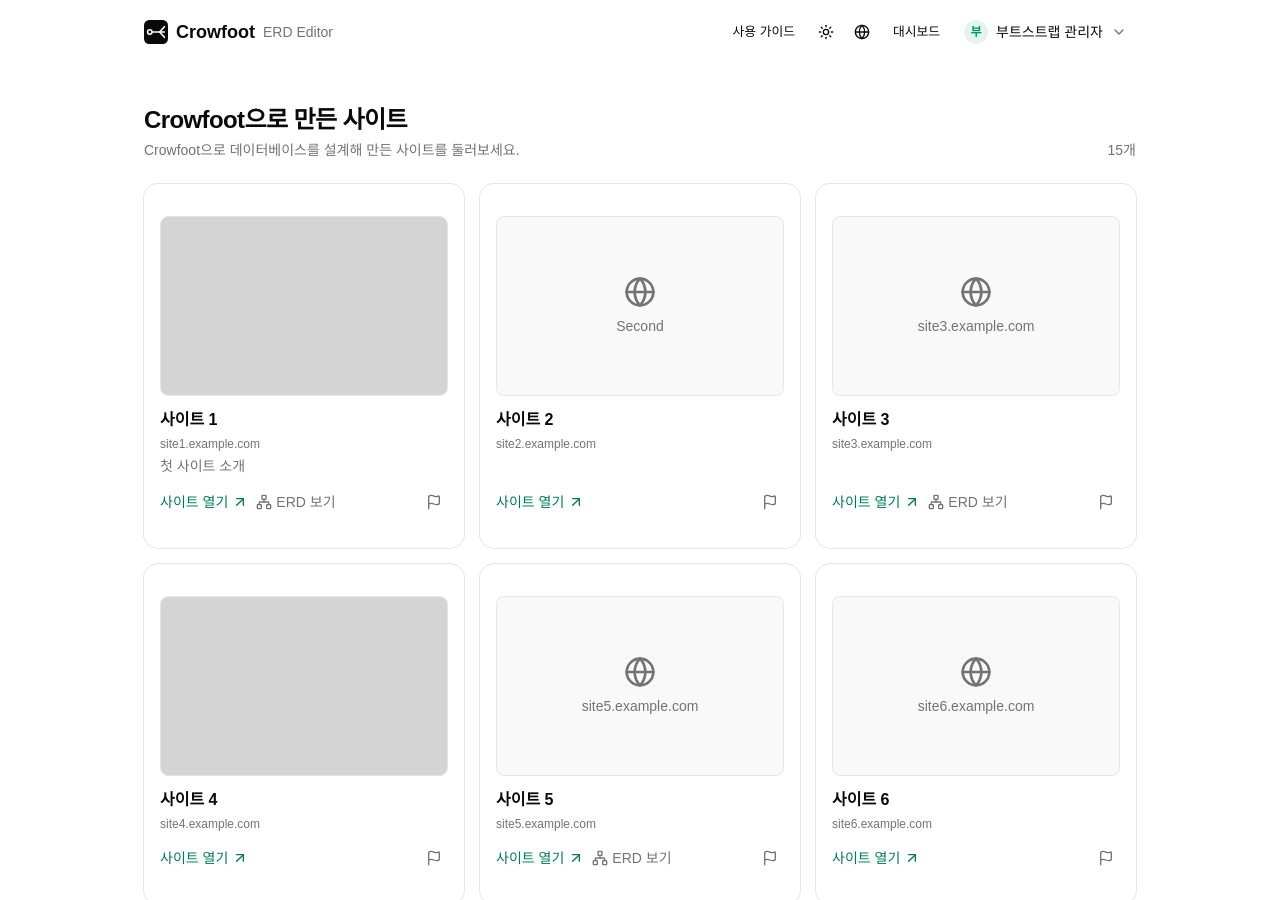
Test: 만든 사이트 목록 › 로그인 사용자는 사유를 적어 신고하고 토스트를 본다
This screenshot has width=1280, height=900.
Click the button named "사이트 1 신고". click: (434, 502)
box: [420,488,448,516]
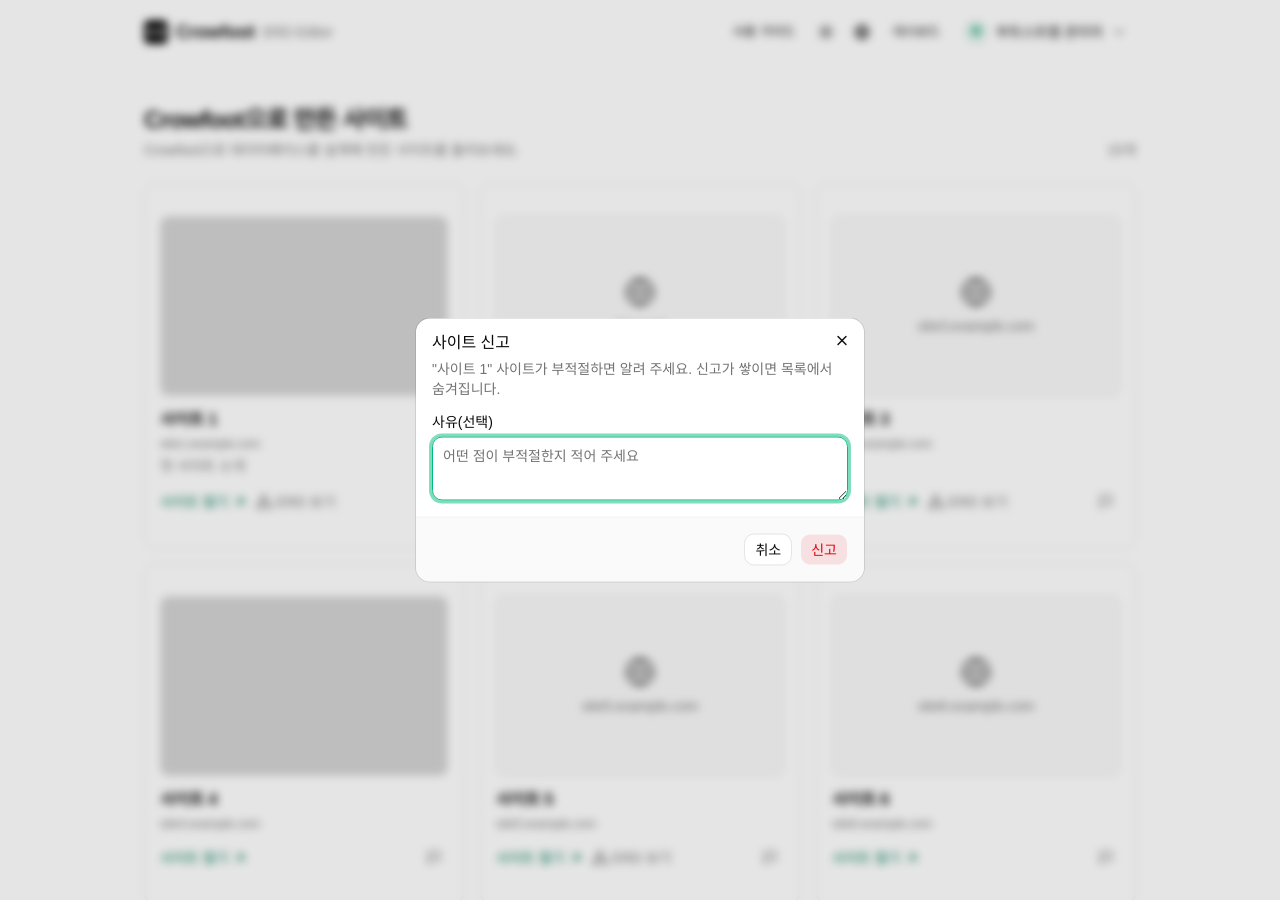
Type "광고입니다" into the text box labelled "사유(선택)". click: (640, 468)
box: [432,436,848,500]
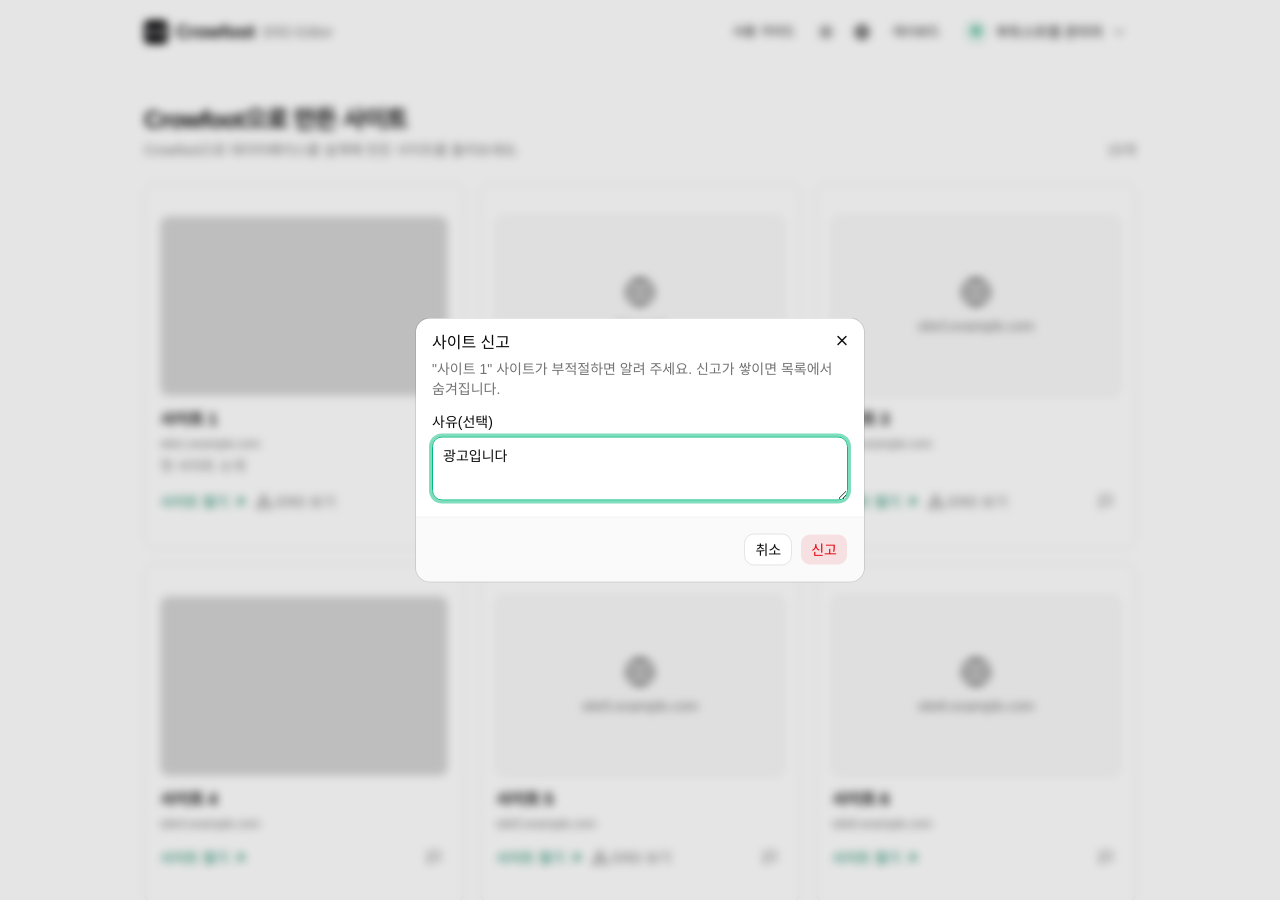
Click the button "신고". click: (824, 550)
box: [800,534,848,566]
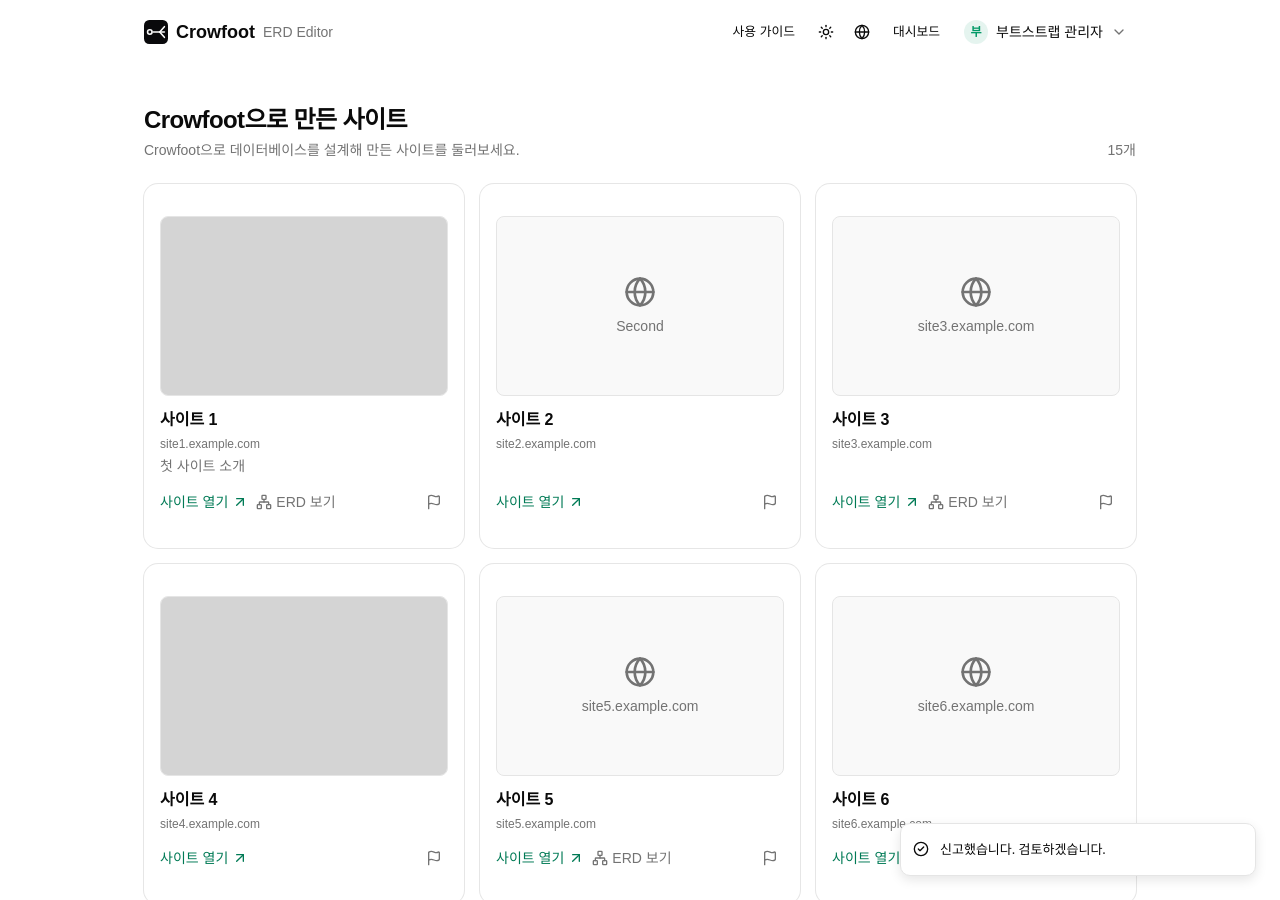
Now the text "신고했습니다. 검토하겠습니다." is shown, box [940,840,1106,859]
Now the dialog is gone
